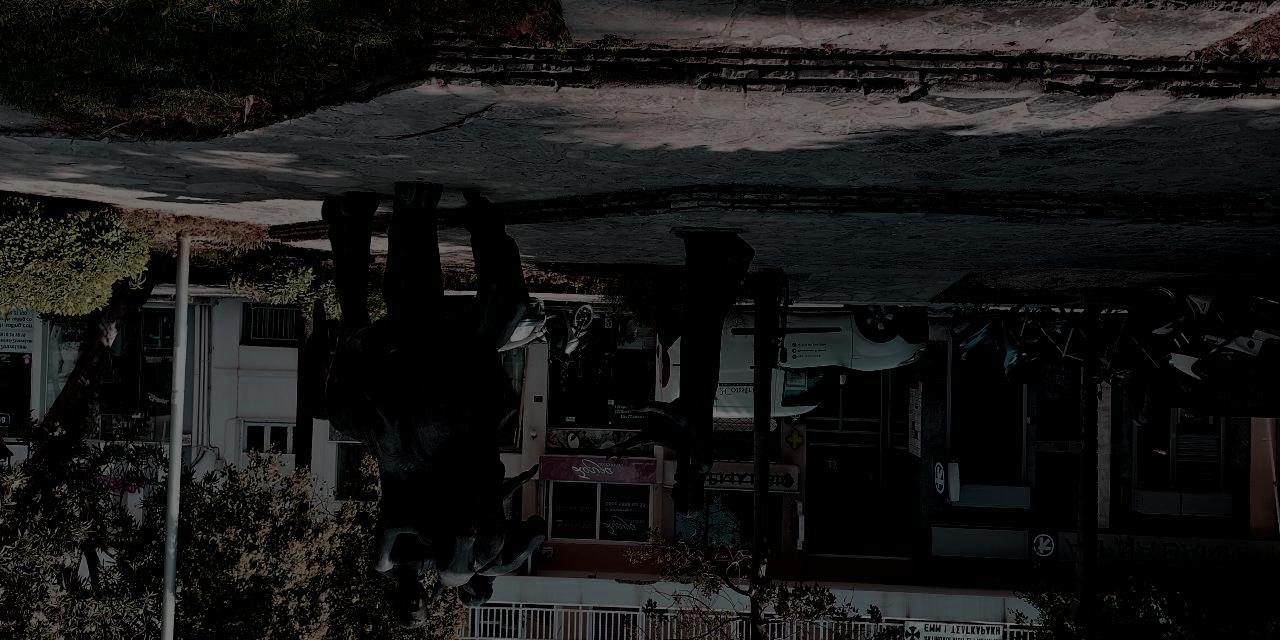Aretousa: (299, 183, 757, 630)
